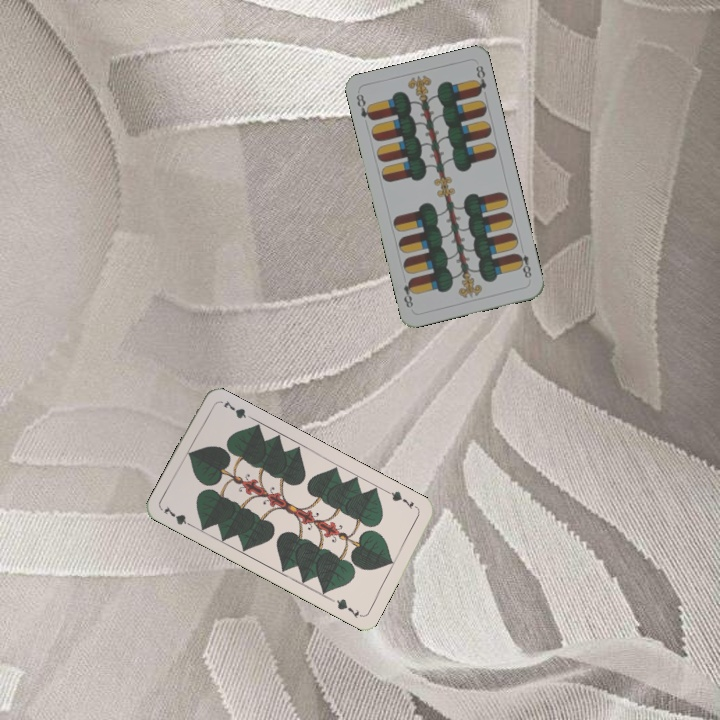E8: (352, 90, 376, 123), (512, 249, 534, 281)
G7: (159, 502, 197, 530), (383, 487, 421, 512)
